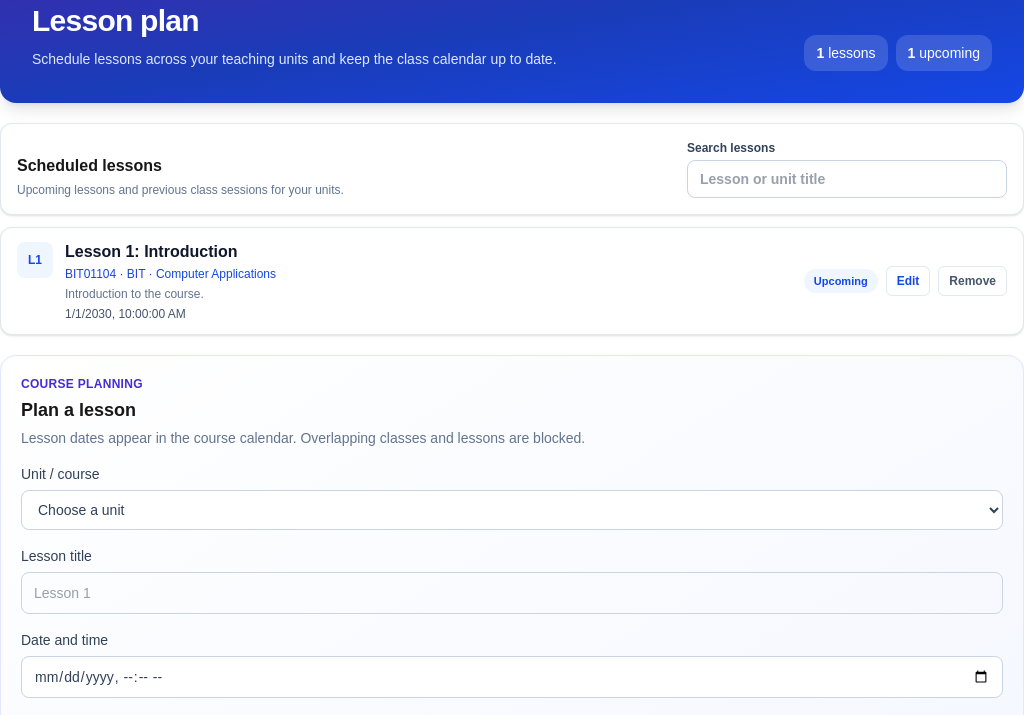
Test: lecturer lesson plan page › lets a lecturer edit a lesson and update its duration
Expected: the text "Lesson 1: Introduction" is shown, [65,243,238,260]
Click the button "Edit" at (908,281), box [886,266,930,296]
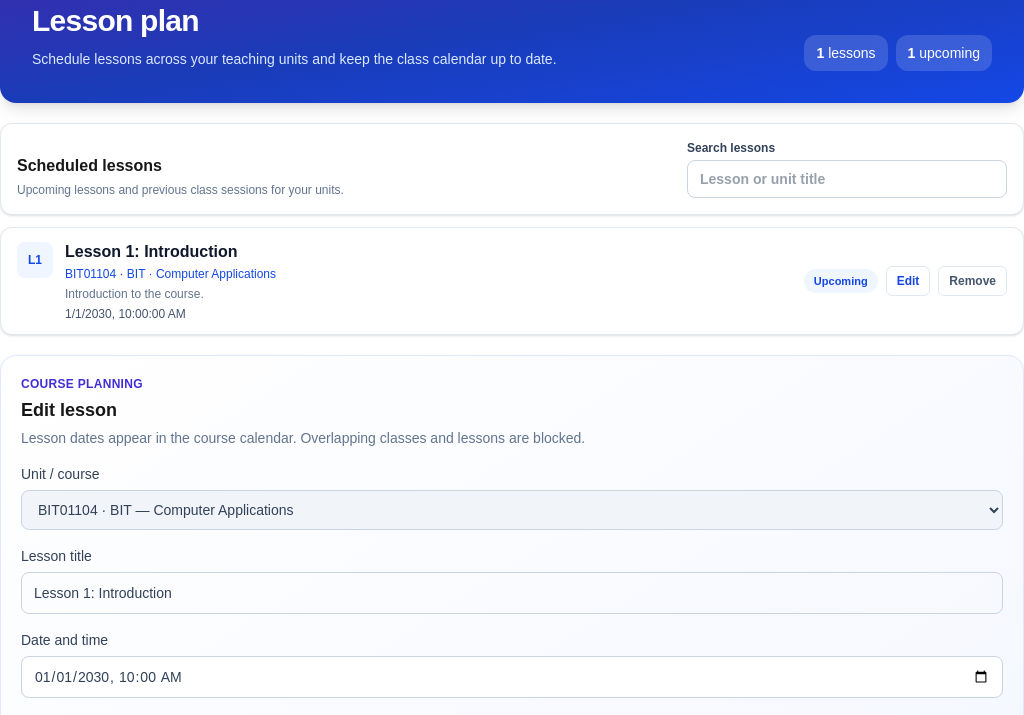
Replace the text in the field labelled "Lesson title" with "Lesson 1: Foundations" at (512,593), box [21,572,1003,614]
(page scrolled)
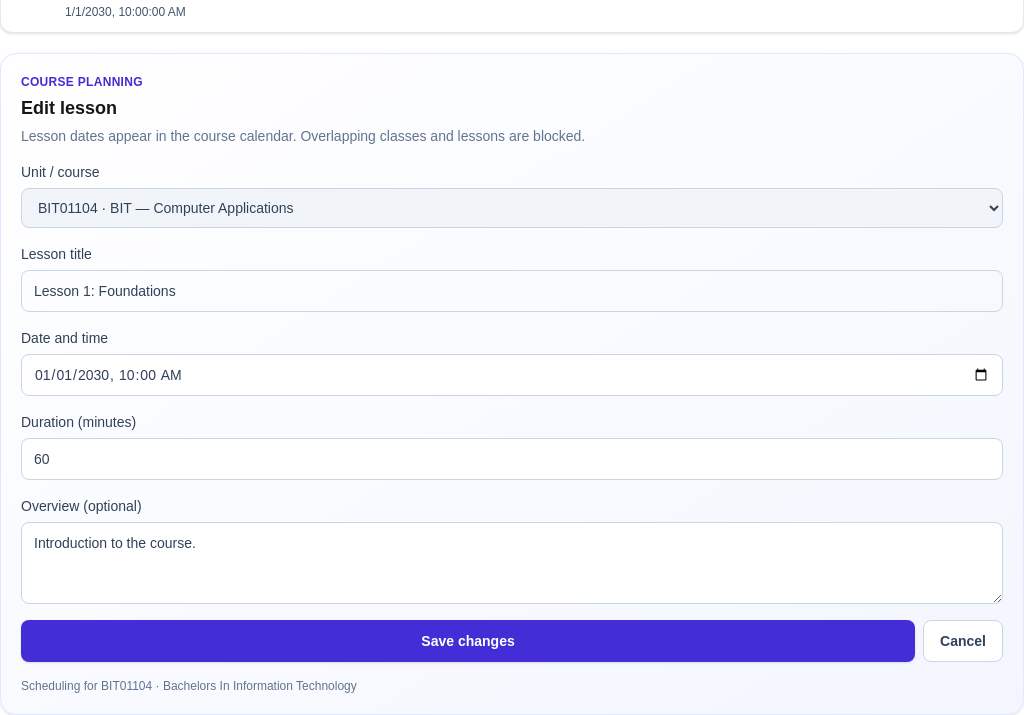
Replace the text in the number field labelled "Duration (minutes)" with "90" at (512,459), box [21,438,1003,480]
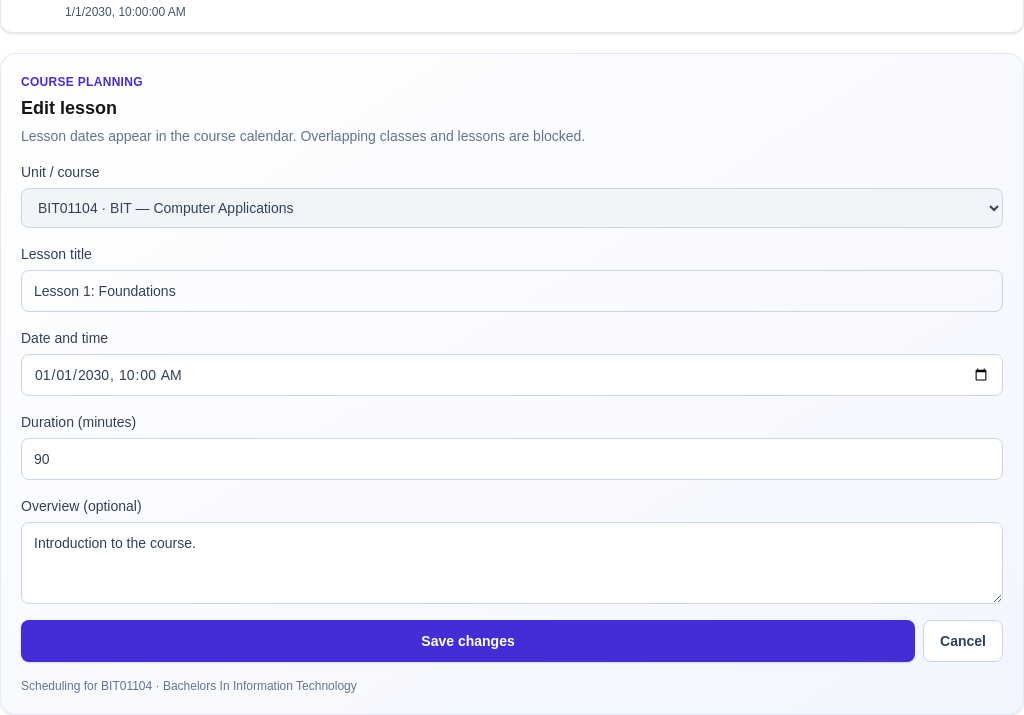
Click the button "Save changes" at (468,641), box [21,620,915,662]
(page scrolled)
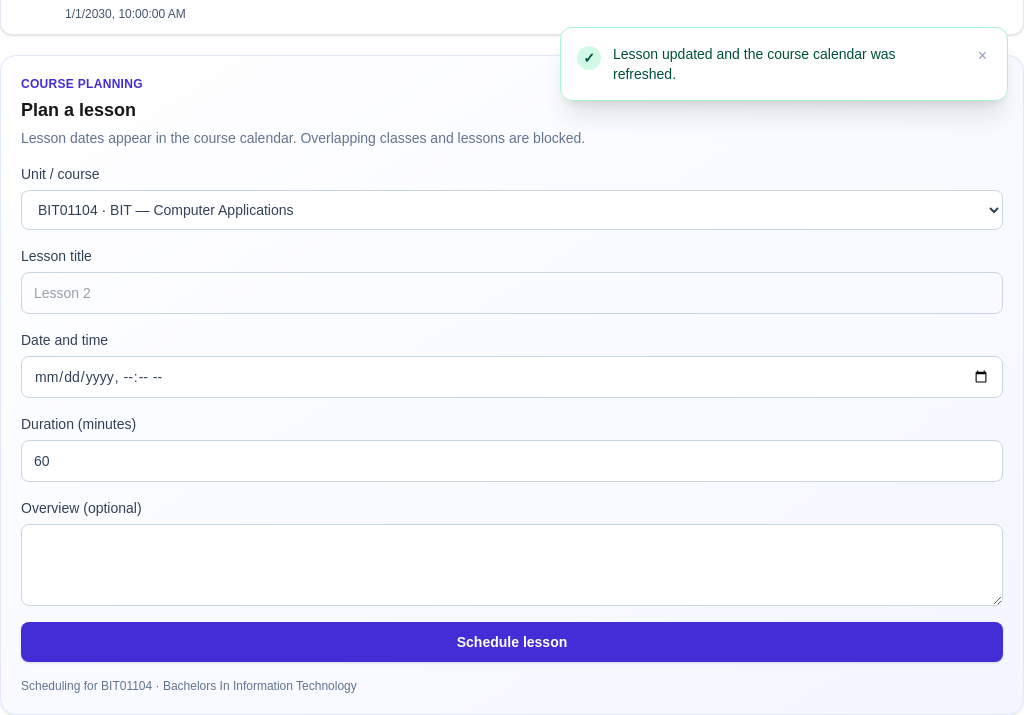
Expected: the message shows "Lesson updated", [613,46,896,82]
